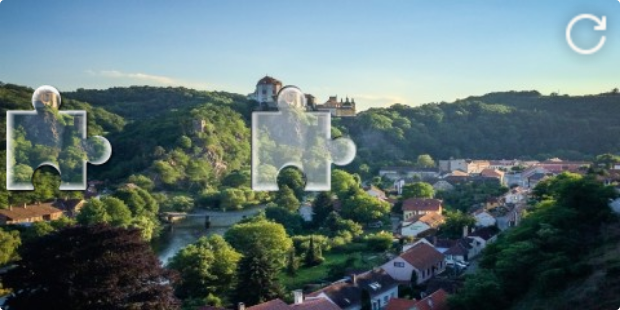target: (252, 86, 356, 191)
